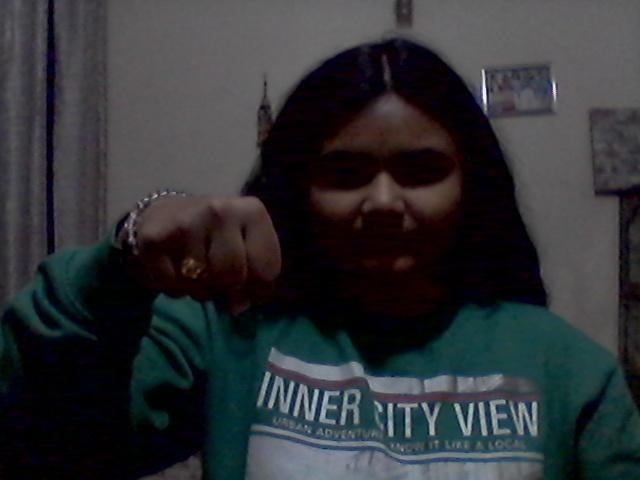yes: (130, 189, 291, 306)
